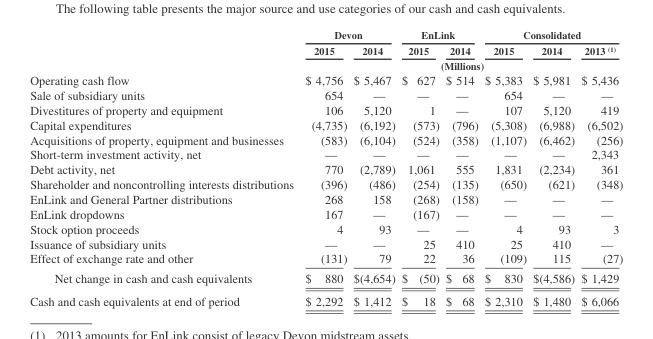table: (29, 28, 622, 307)
table column: (29, 28, 298, 307), (298, 28, 349, 307), (480, 28, 529, 307), (349, 28, 397, 307), (529, 28, 577, 307), (577, 28, 622, 307), (397, 28, 441, 307), (441, 28, 480, 307)
table column header: (29, 28, 622, 72)
table row: (29, 268, 622, 289), (29, 250, 622, 268), (29, 289, 622, 307), (29, 42, 622, 57), (29, 57, 622, 72), (29, 72, 622, 87), (29, 87, 622, 102), (29, 102, 622, 117), (29, 131, 622, 146), (29, 146, 622, 161), (29, 161, 622, 176), (29, 176, 622, 191), (29, 191, 622, 206), (29, 206, 622, 221), (29, 235, 622, 250), (29, 28, 622, 42), (29, 117, 622, 131), (29, 221, 622, 235)
table spanning cell: (298, 57, 622, 72), (480, 28, 622, 42), (298, 28, 397, 42), (397, 28, 480, 42)
